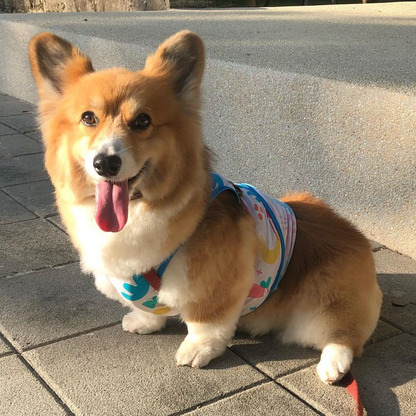Corgi: (19, 25, 399, 391)
